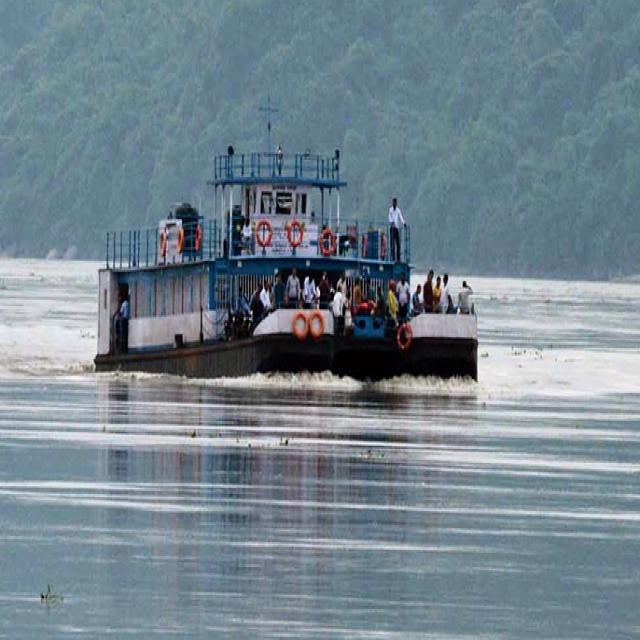fishing boat: (85, 92, 478, 393)
